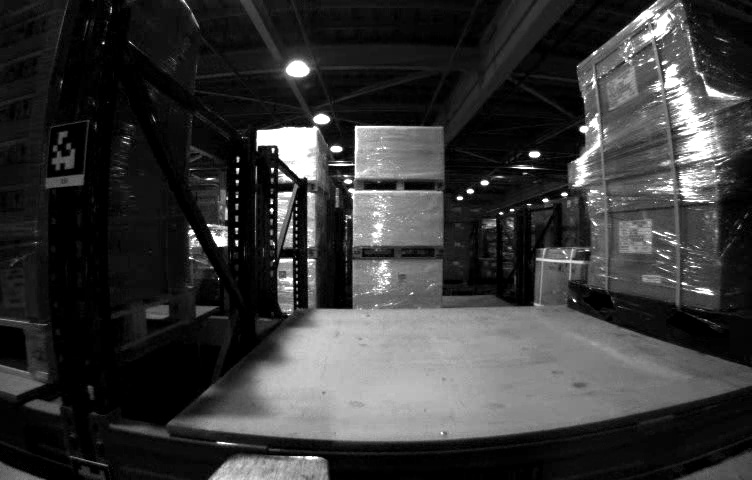True Barcode: (1, 267, 26, 309)
